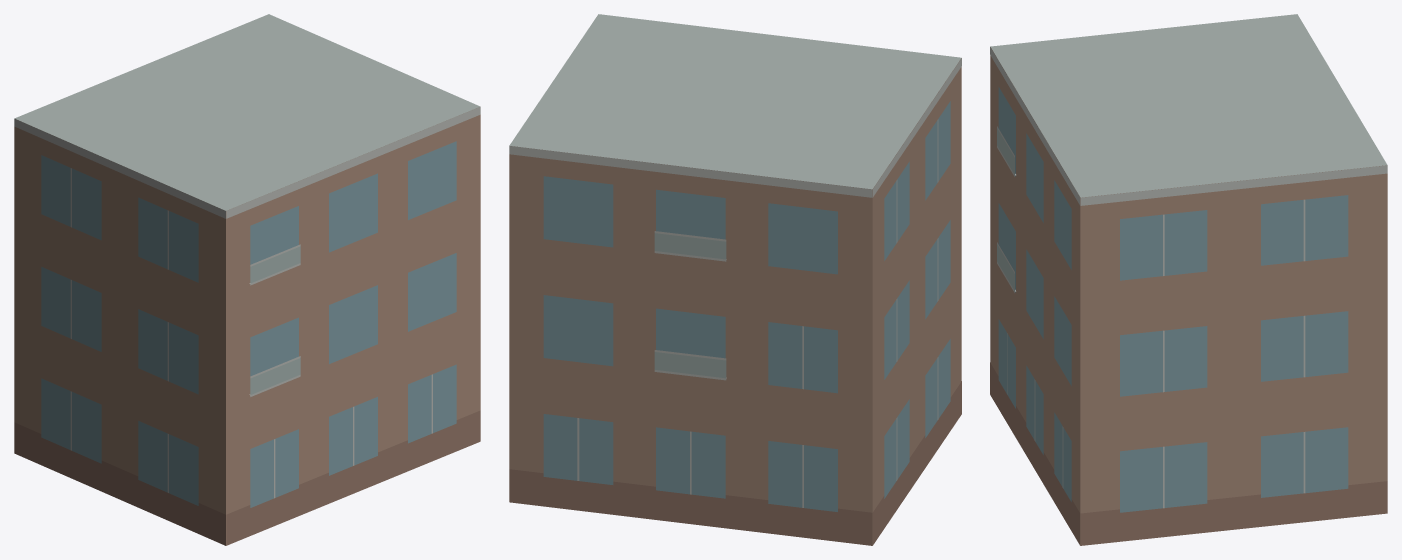
The model's file is survey-upis-32998430.glb.
The picture shows the model from 3 angles, left to right: view 1: azimuth 30°, elevation 25°; view 2: azimuth 150°, elevation 25°; view 3: azimuth 270°, elevation 25°; orthographic projection. The views are drawn at different scales.
Parts seen in each view (by area): view 1: survey-upis-32998430.tmp; view 2: survey-upis-32998430.tmp; view 3: survey-upis-32998430.tmp.
Boxes of the visible parts, x1,y1,x2,y2 form: survey-upis-32998430.tmp: (14, 14, 480, 545); survey-upis-32998430.tmp: (509, 14, 961, 545); survey-upis-32998430.tmp: (990, 14, 1387, 545).
Bounding box in the file's own units: 11.54 × 10.2 × 10.56.
